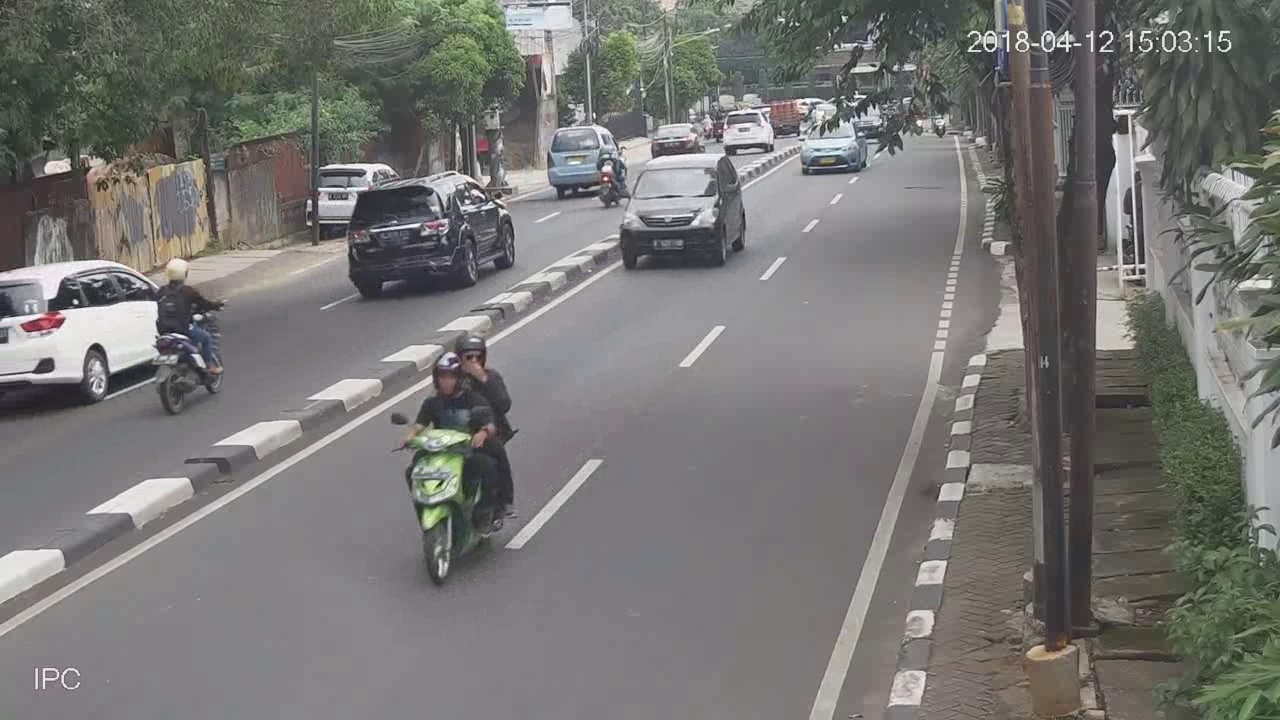car: (339, 172, 516, 299), (1, 261, 154, 400), (619, 149, 749, 275), (547, 124, 616, 198), (801, 122, 871, 174), (722, 111, 775, 154), (649, 120, 704, 154)
motorcycle: (389, 332, 521, 586), (140, 252, 227, 416), (597, 141, 629, 211)
